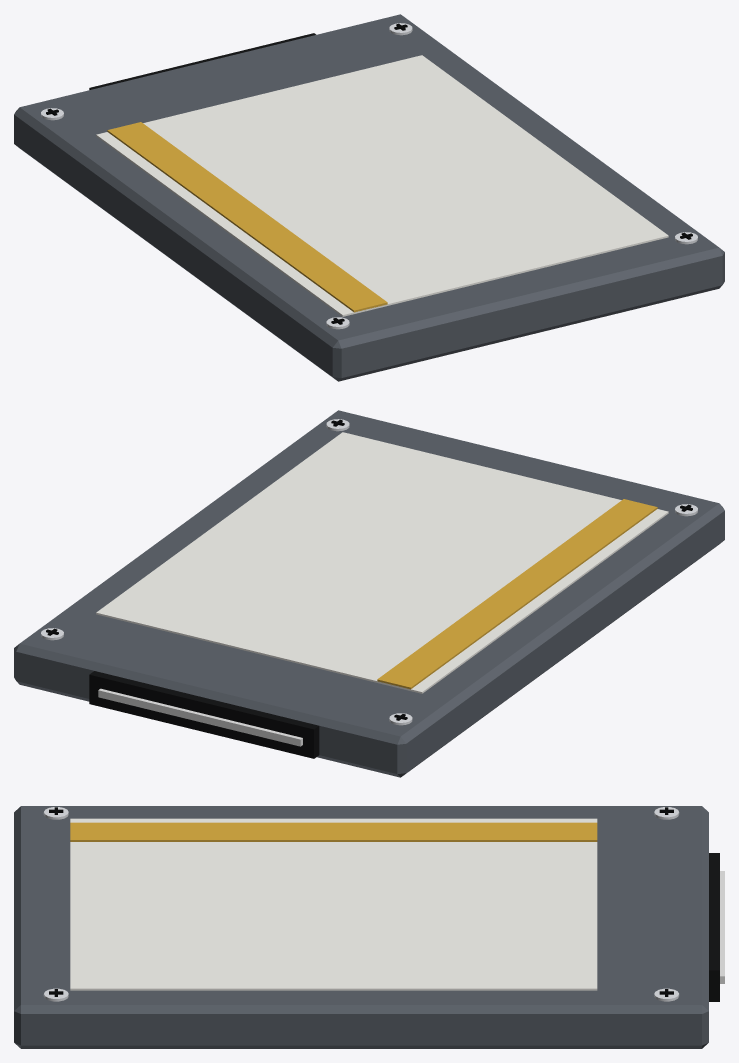
The model's file is hw_sto_ssd_7tb.glb.
3 renders of one model, top to bottom at view 1: azimuth 30°, elevation 25°; view 2: azimuth 150°, elevation 25°; view 3: azimuth 270°, elevation 25°, orthographic. The views are drawn at different scales.
Parts seen in each view (by area): view 1: Body; view 2: Body; view 3: Body.
Boxes of the visible parts, x1,y1,x2,y2 form: Body: [14, 14, 724, 381]; Body: [14, 410, 724, 777]; Body: [14, 806, 724, 1048].
Size of the model in its own units: 0.0698 by 0.00767 by 0.1025.
